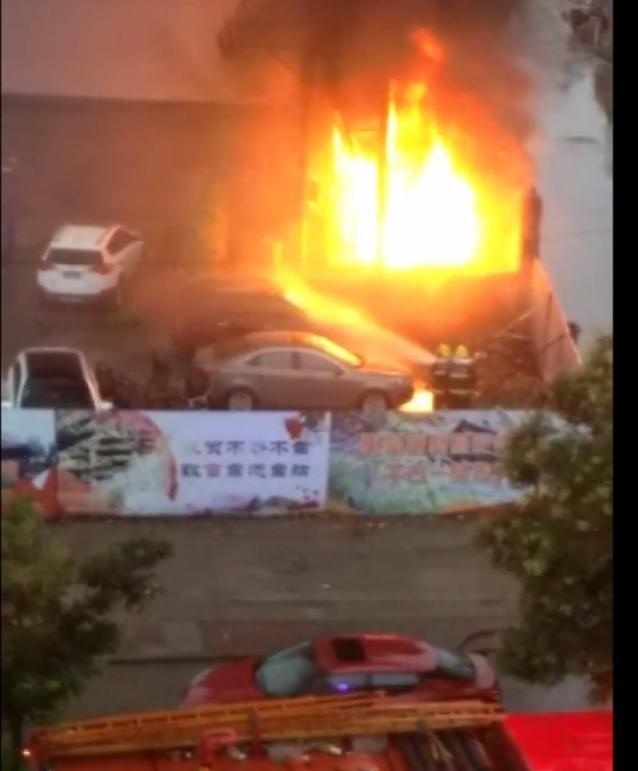fire: (303, 88, 505, 273)
